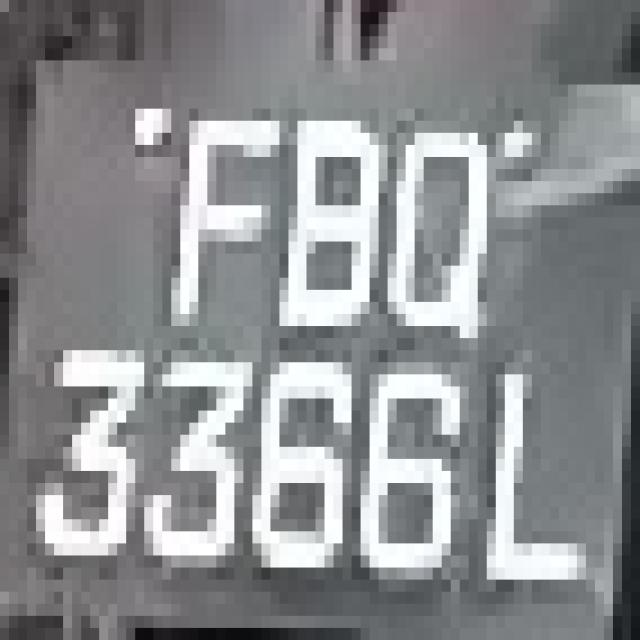3: (127, 314, 226, 604), (27, 302, 126, 580)
6: (234, 338, 360, 592), (352, 314, 451, 604)
B: (262, 97, 388, 374)
F: (136, 85, 280, 326)
L: (478, 314, 595, 628)
Q: (378, 97, 514, 374)
